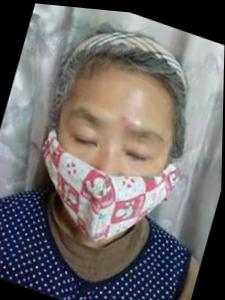WRONG: (30, 91, 185, 259)
